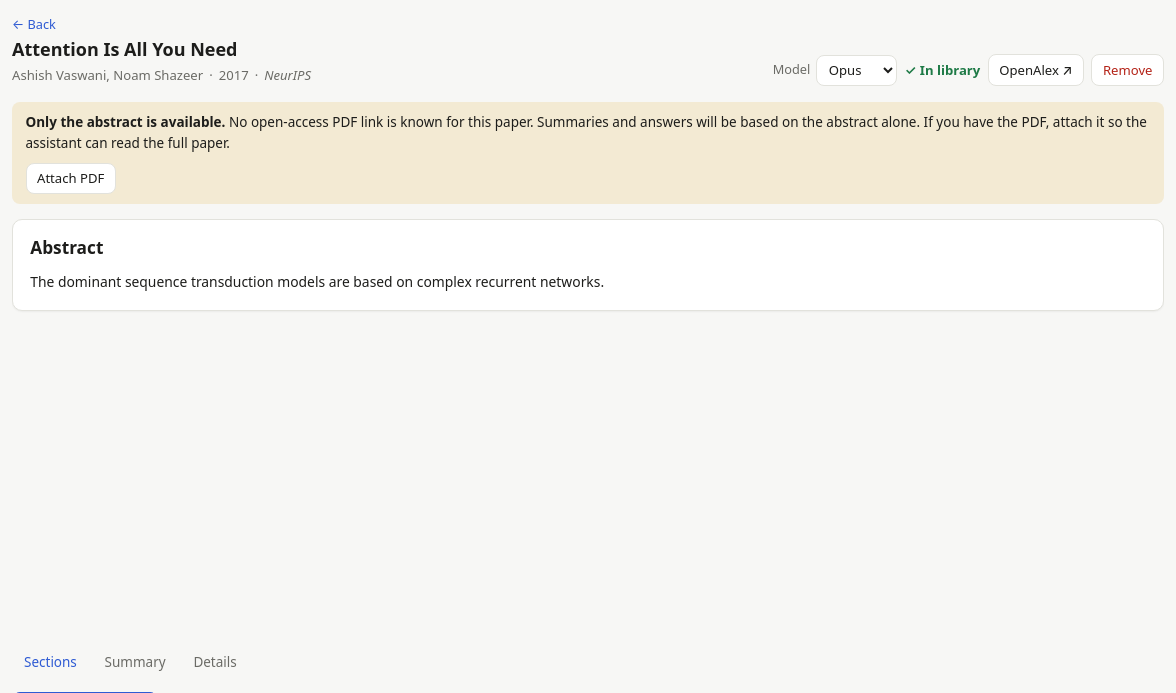
Test: PaperPage › reports a failed removal and stays on the paper
Click the button "Remove" at (1128, 70), box [1092,54,1164,86]
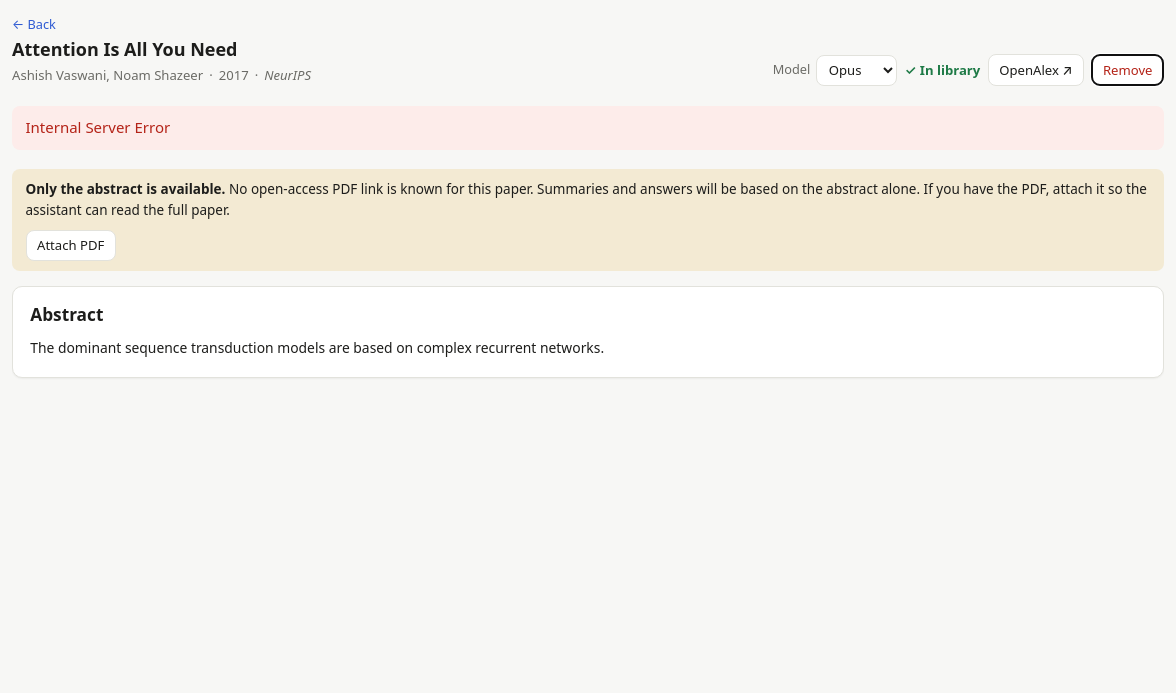
Expected: the heading "Attention Is All You Need" is shown, [12,36,238,60]
Now the text "Internal Server Error" is shown, box [12,106,1164,150]
